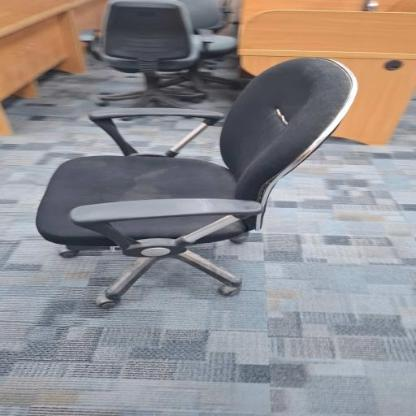chair: (30, 55, 365, 310), (84, 0, 218, 126)
